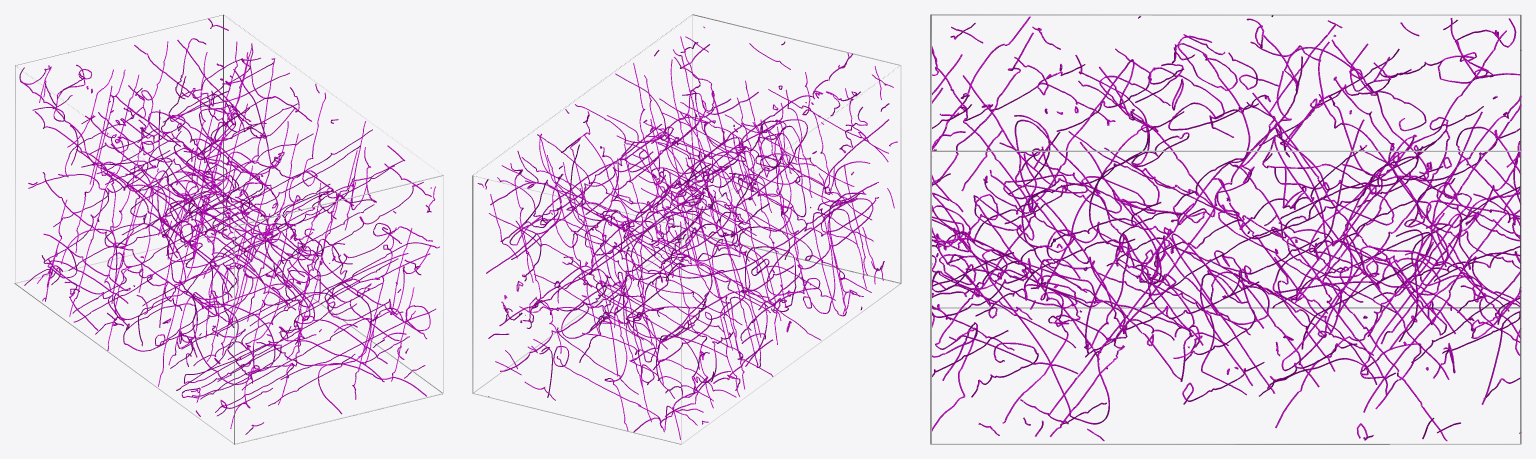
3 views of the same model, side by side, from view 1: azimuth 30°, elevation 25°; view 2: azimuth 150°, elevation 25°; view 3: azimuth 270°, elevation 25° (orthographic). The views are drawn at different scales.
Visible parts, largest first — view 1: Shape_IndexedLineSet.001, Shape_IndexedLineSet; view 2: Shape_IndexedLineSet.001, Shape_IndexedLineSet; view 3: Shape_IndexedLineSet.001, Shape_IndexedLineSet.
Part boxes in pixels (x1,y1,x2,y2): Shape_IndexedLineSet.001: [19, 18, 439, 434]; Shape_IndexedLineSet: [14, 14, 443, 444]; Shape_IndexedLineSet.001: [477, 26, 897, 439]; Shape_IndexedLineSet: [472, 14, 901, 444]; Shape_IndexedLineSet.001: [932, 15, 1521, 440]; Shape_IndexedLineSet: [930, 14, 1521, 444].
Bounding box in the file's own units: 241 × 241 × 439.
